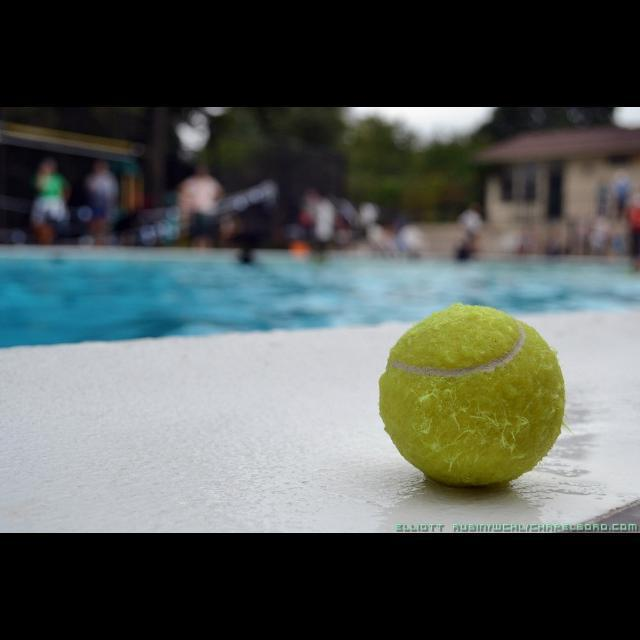tennis-ball: (379, 304, 567, 488)
